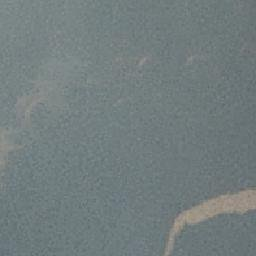debris: (161, 186, 255, 256)
